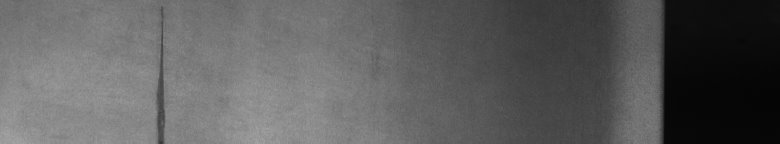hd: (149, 4, 172, 136)
